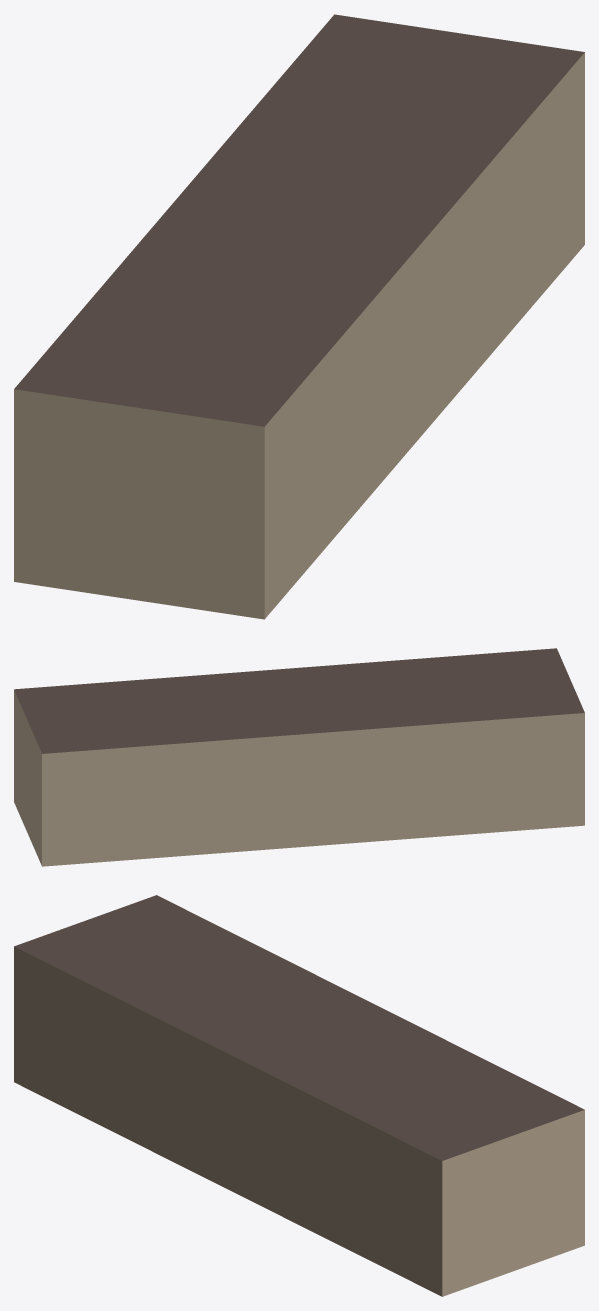
3 renders of one model, top to bottom at view 1: azimuth 30°, elevation 25°; view 2: azimuth 150°, elevation 25°; view 3: azimuth 270°, elevation 25°, orthographic. The views are drawn at different scales.
Parts seen in each view (by area): view 1: HP-w859488712; view 2: HP-w859488712; view 3: HP-w859488712.
Part boxes in pixels (x1=…): HP-w859488712: x1=14, y1=14, x2=584, y2=619; HP-w859488712: x1=14, y1=648, x2=584, y2=866; HP-w859488712: x1=14, y1=895, x2=584, y2=1296.
Bounding box in the file's own units: 37.81 × 9 × 34.29.
